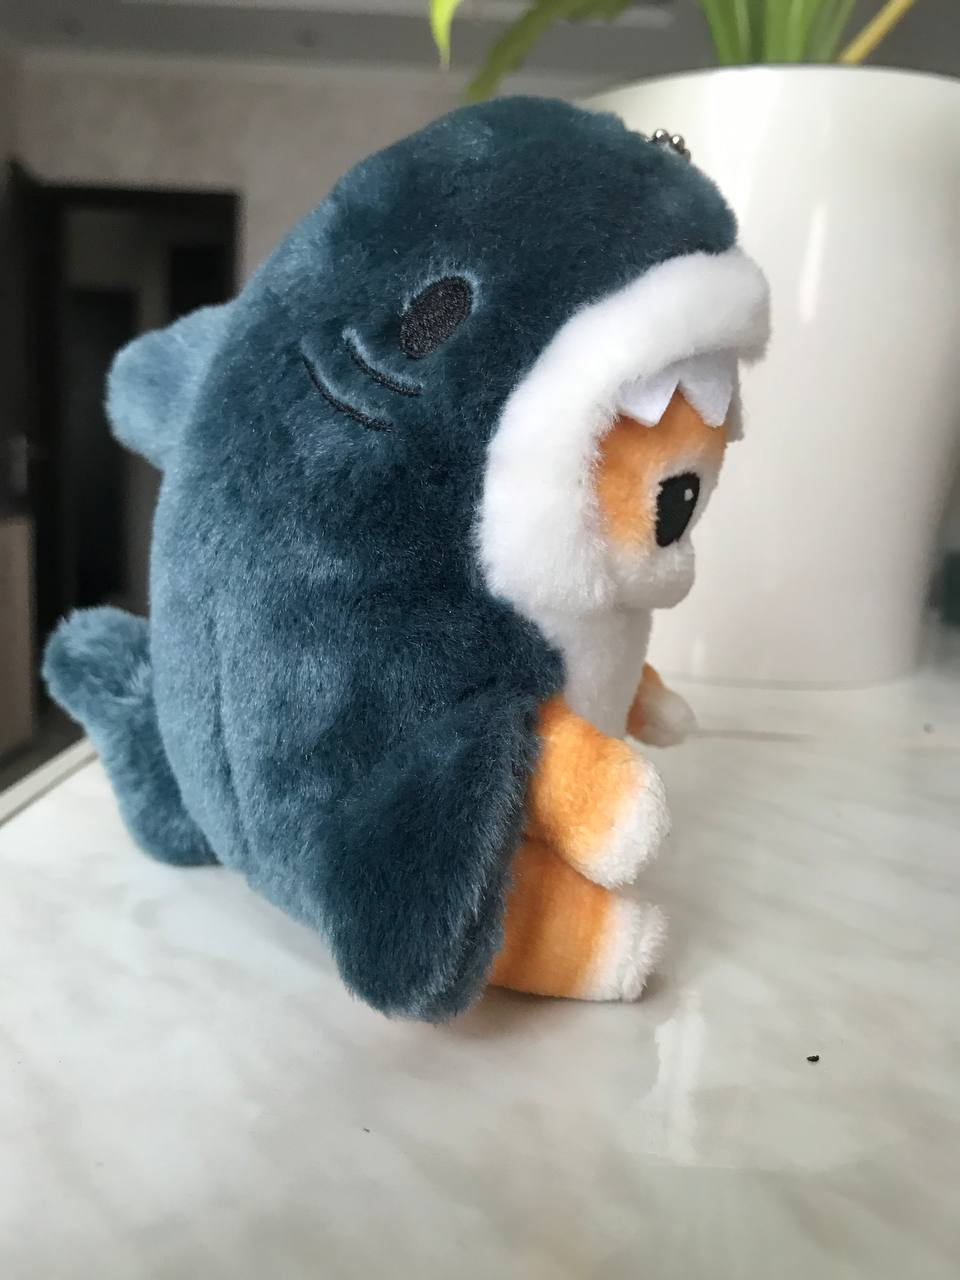cat_shark: (37, 85, 777, 1038)
